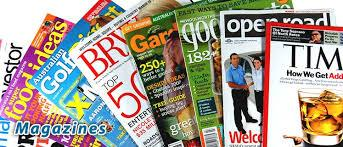Printing industry: (2, 0, 343, 147)
